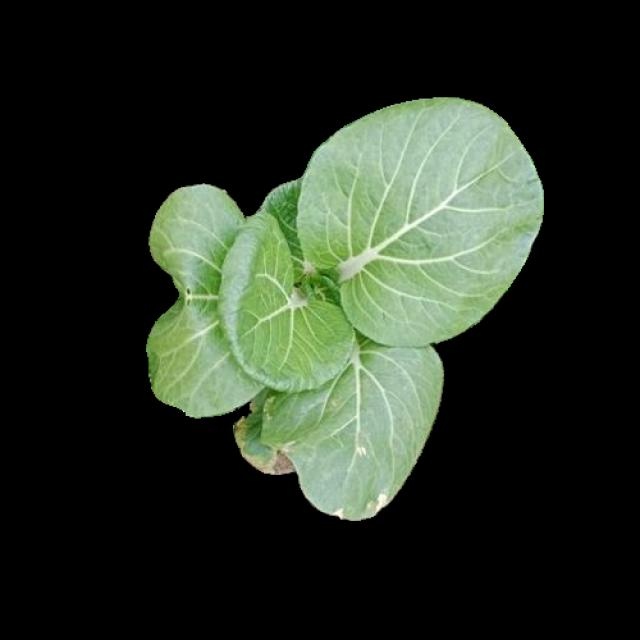mature: (148, 98, 542, 518)
unhealthy: (232, 311, 443, 521), (150, 184, 275, 415)
